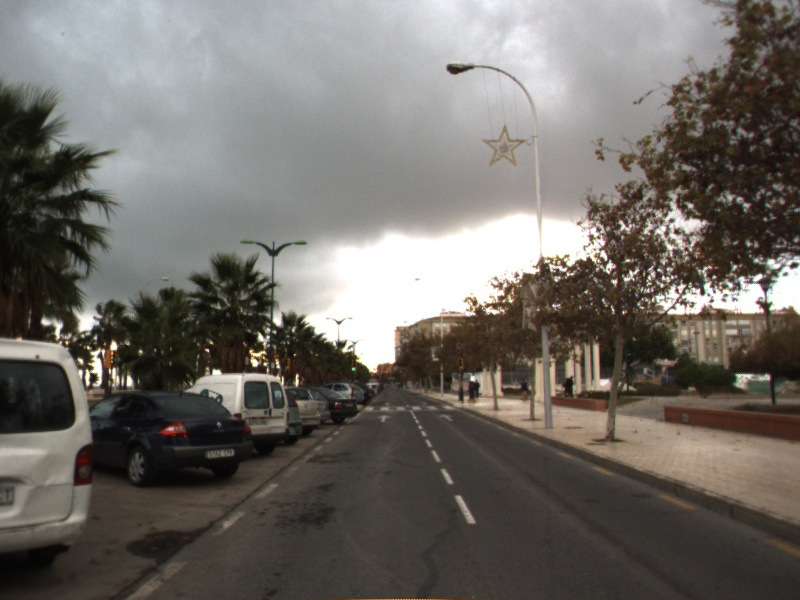STRAIGHT: (437, 412, 457, 423), (376, 413, 393, 424)
